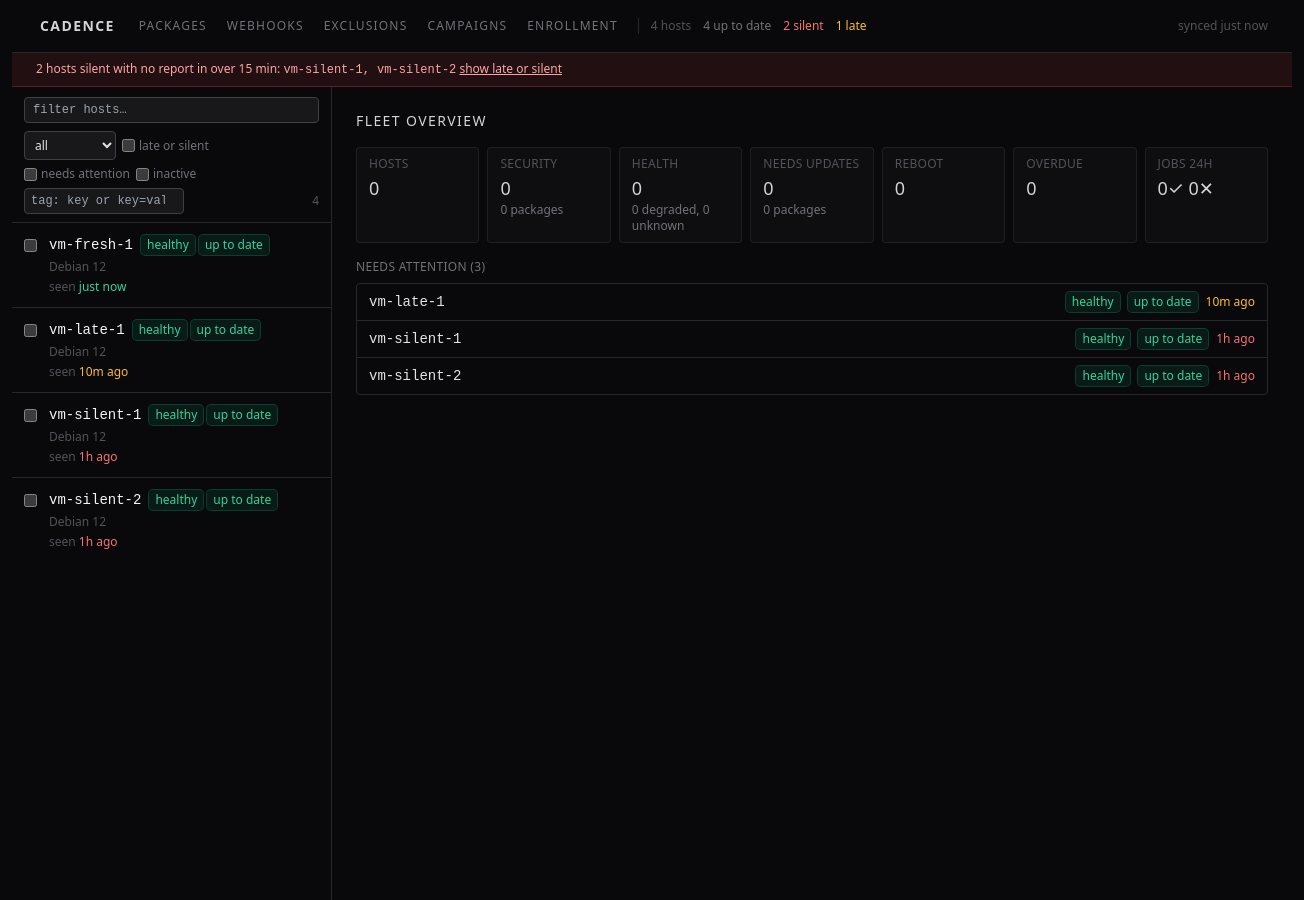
it: App anomaly navigation › banner click lists late or silent hosts without selecting an arbitrary one
Expected: the text "2 hosts silent" is shown, [36,60,110,77]
Step 1. Click the button named "show late or silent" → click(93, 68), box [12,53,1292,87]
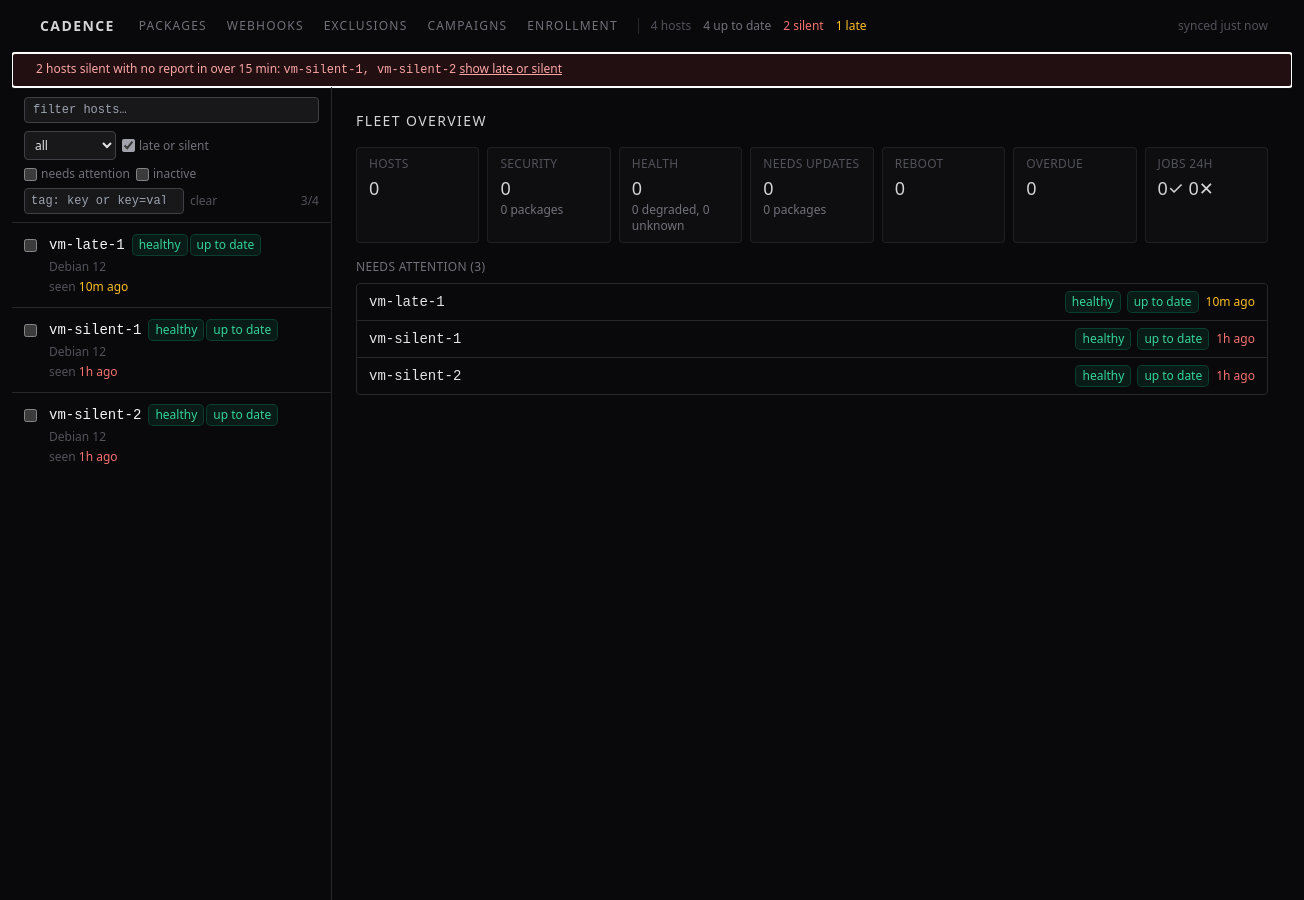
Expected: the text "vm-silent-1" below "3/4" is shown, [49,322,141,338]
Now the button "vm-fresh-1" is gone
